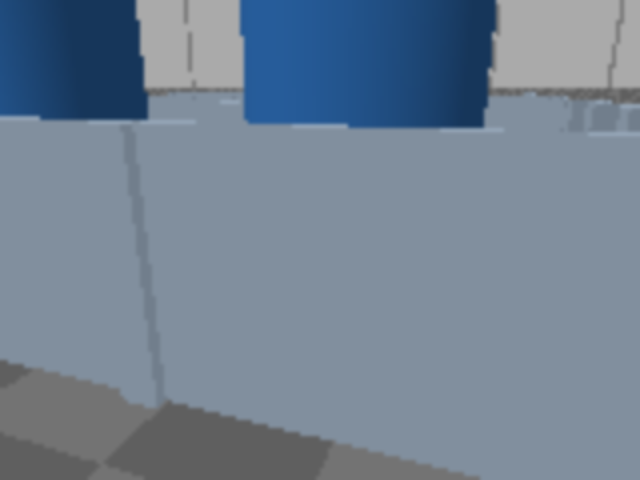person: (204, 0, 638, 370)
